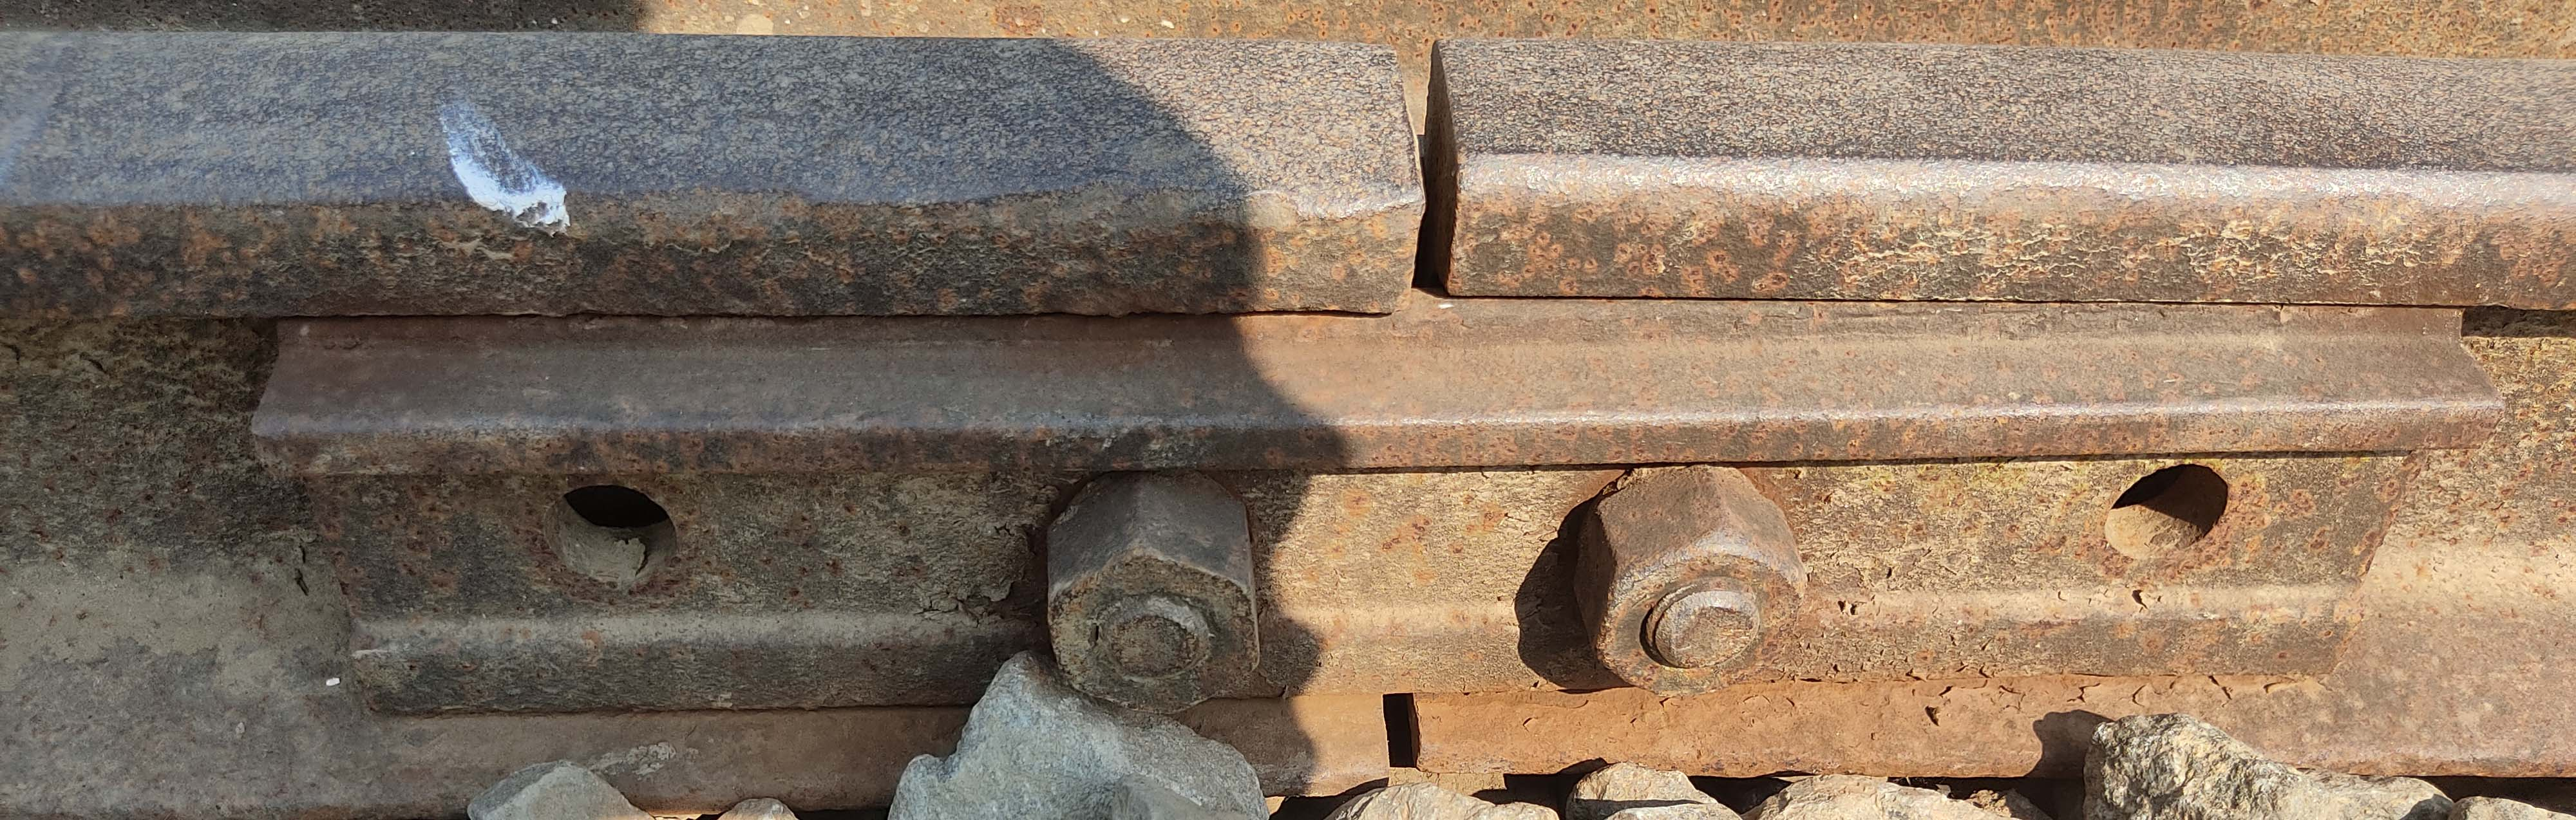error2: (1364, 3, 1533, 330)
